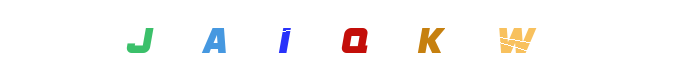A: (198, 0, 278, 80)
I: (309, 0, 389, 80)
J: (101, 0, 181, 80)
K: (387, 0, 467, 80)
Q: (315, 0, 395, 80)
W: (464, 0, 544, 80)
